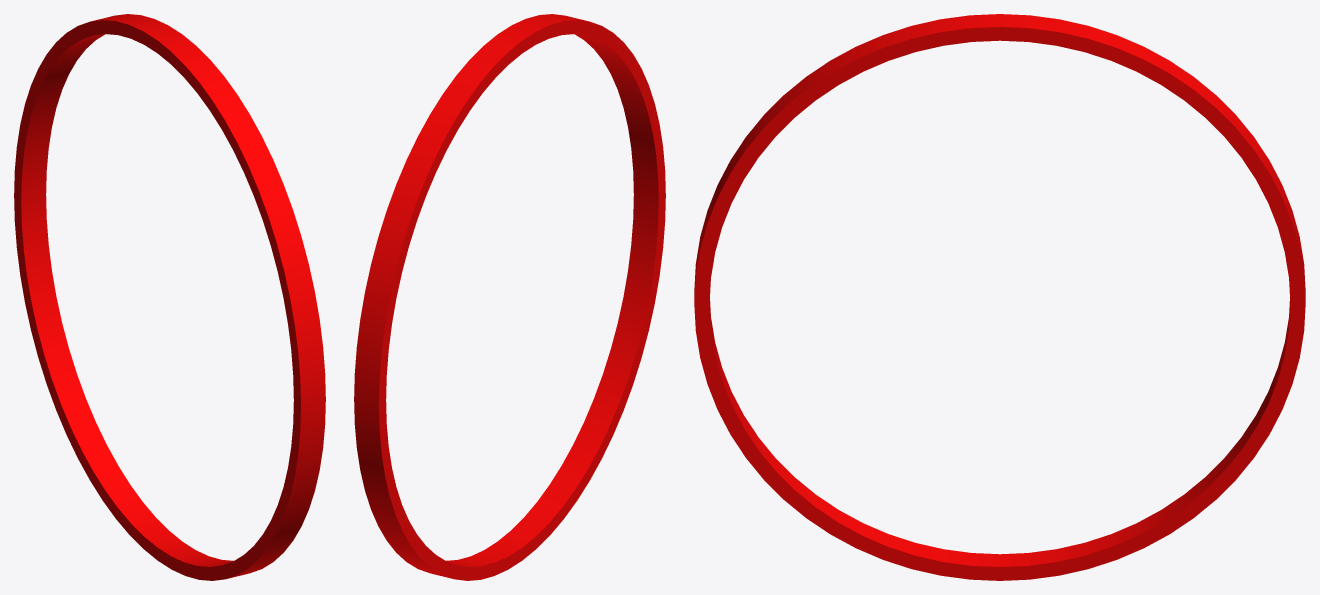
The model's file is collectable.FBX.
3 renders of one model, left to right at view 1: azimuth 30°, elevation 25°; view 2: azimuth 150°, elevation 25°; view 3: azimuth 270°, elevation 25°, orthographic. The views are drawn at different scales.
Parts seen in each view (by area): view 1: Tube001; view 2: Tube001; view 3: Tube001.
Part boxes in pixels (box(x1,y1,x2,y2)): Tube001: box(14, 14, 325, 580); Tube001: box(354, 14, 665, 580); Tube001: box(694, 14, 1305, 580).
Size of the model in its own units: 10 by 200 by 200.
